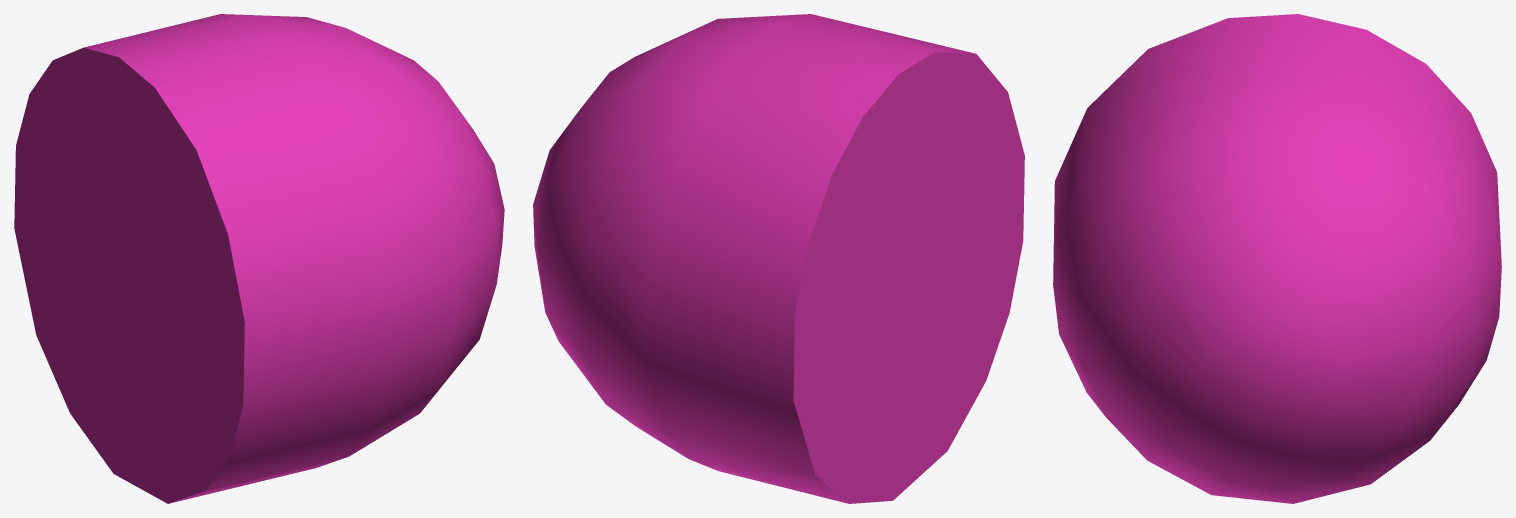
Rendered from bala_antimateria.obj.
3 renders of one model, left to right at view 1: azimuth 30°, elevation 25°; view 2: azimuth 150°, elevation 25°; view 3: azimuth 270°, elevation 25°, orthographic. The views are drawn at different scales.
Size of the model in its own units: 0.0392 by 0.0447 by 0.0448.
